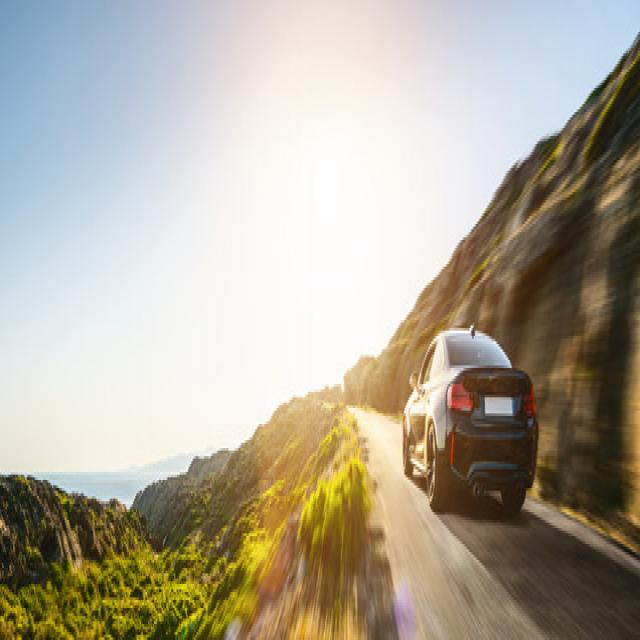car: (374, 252, 556, 565)
